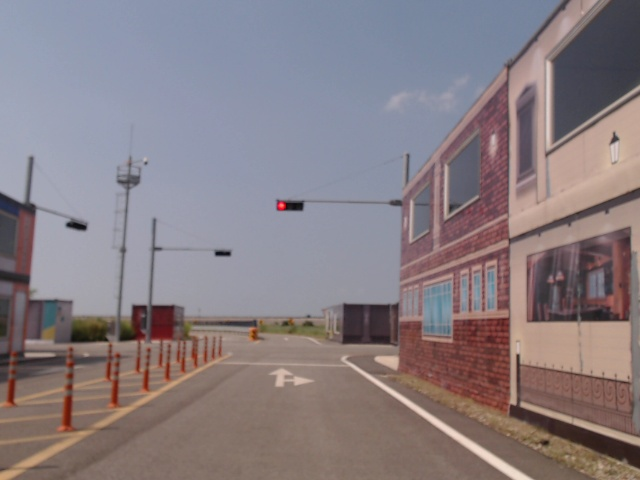red_3: (277, 202, 303, 211)
